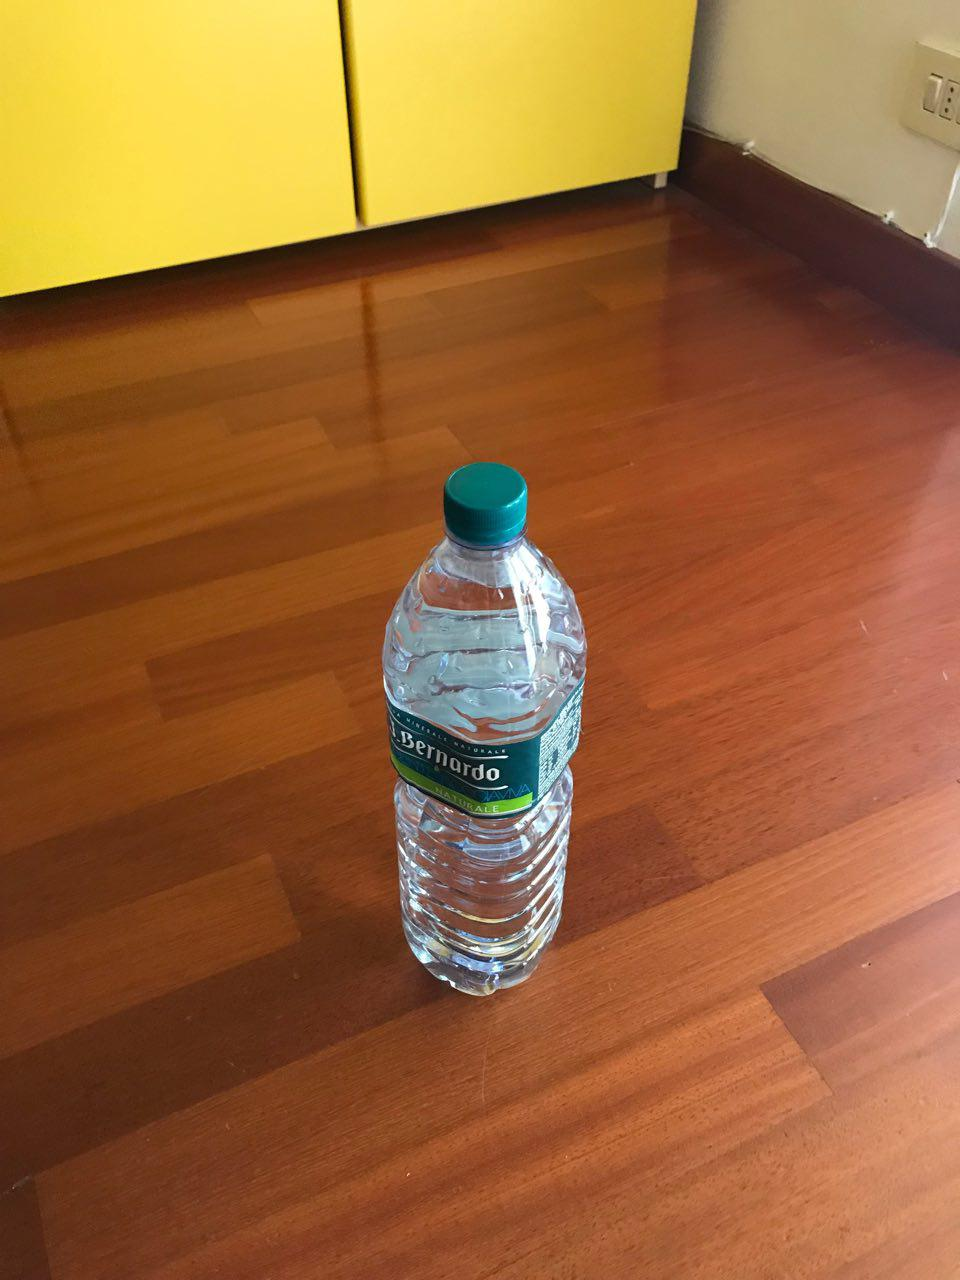san_bernardo: (379, 460, 590, 1000)
